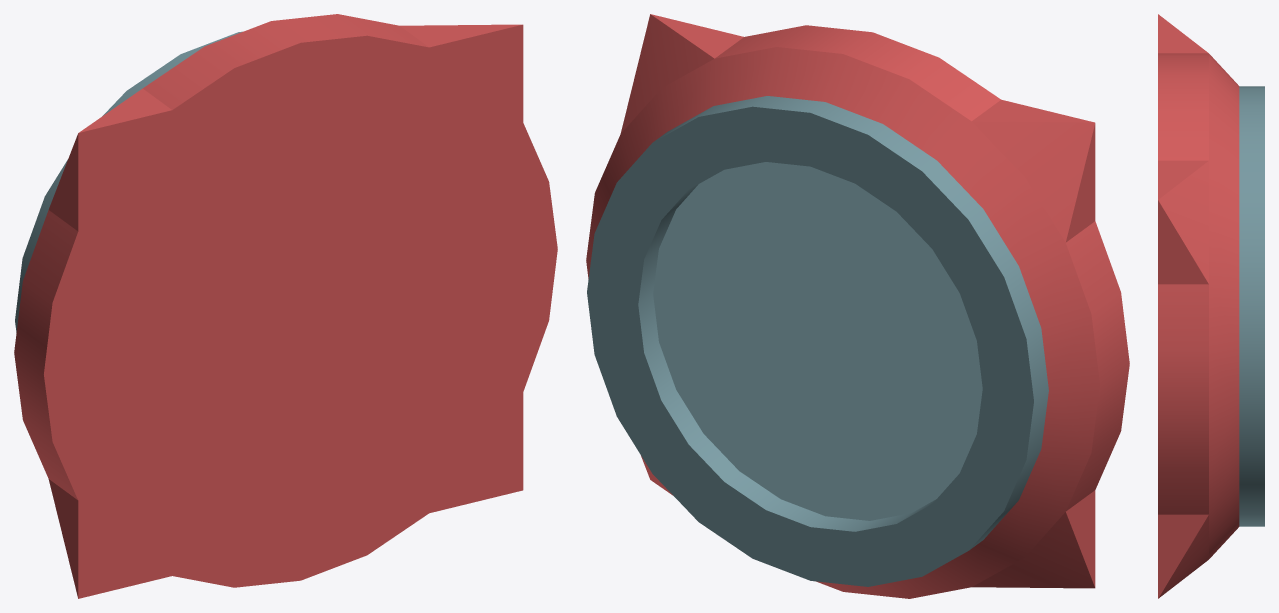
Rendered from towerRound_base.002_clickable.obj.
3 views of the same model, side by side, from view 1: azimuth 30°, elevation 25°; view 2: azimuth 150°, elevation 25°; view 3: azimuth 270°, elevation 25° (orthographic). The views are drawn at different scales.
Parts seen in each view (by area): view 1: towerRound_base.003_clickable; view 2: towerRound_base.003_clickable; view 3: towerRound_base.003_clickable.
Part boxes in pixels (x1=…): towerRound_base.003_clickable: x1=14, y1=14, x2=557, y2=598; towerRound_base.003_clickable: x1=586, y1=14, x2=1129, y2=598; towerRound_base.003_clickable: x1=1158, y1=14, x2=1264, y2=598.
Bounding box in the file's own units: 1 × 1 × 0.21.
